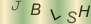B: (30, 3, 42, 15)
H: (78, 4, 91, 19)
J: (10, 1, 22, 12)
L: (49, 8, 62, 21)
S: (66, 10, 78, 24)
